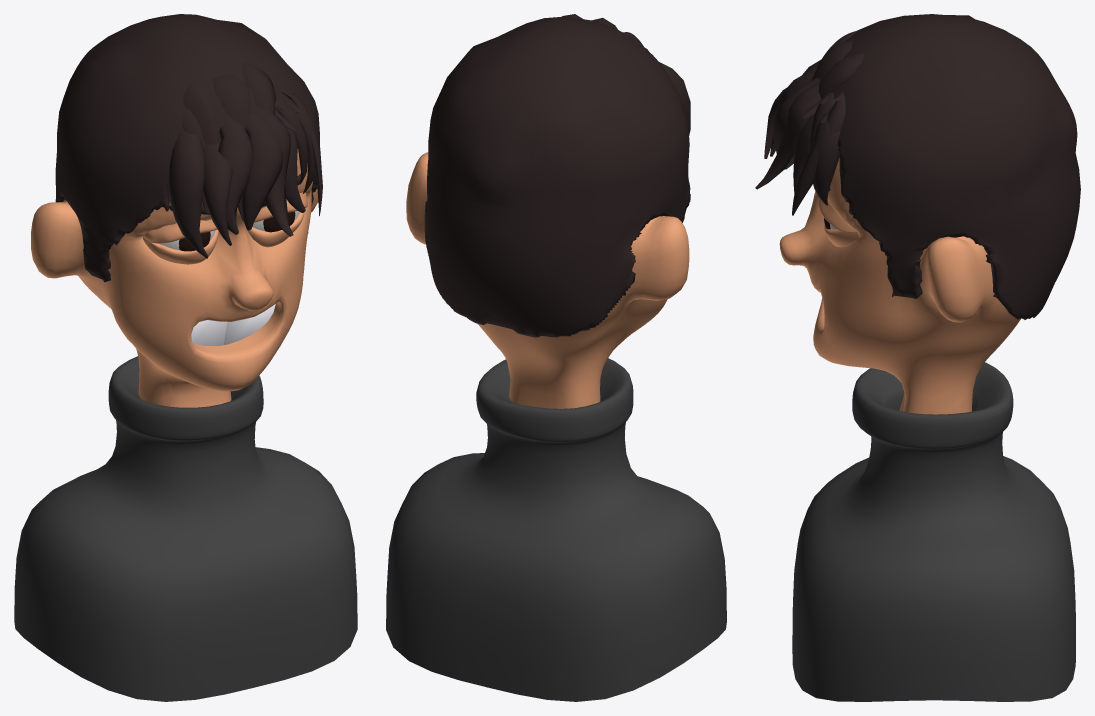
The model's file is marco-avatar.glb.
3 renders of one model, left to right at view 1: azimuth 30°, elevation 25°; view 2: azimuth 150°, elevation 25°; view 3: azimuth 270°, elevation 25°, orthographic. The views are drawn at different scales.
Visible parts, largest first — view 1: shirt, face-low-poly, hair mesh, hair (×2), hair.008, hair.002, hair.010, hair.005, hair.011, hair.004, hair.001, hair.009 (+1 smaller); view 2: shirt, hair mesh, face-low-poly, hair.008; view 3: shirt, hair mesh, face-low-poly, hair (×2), hair.007, hair.004, hair.001, hair.005, hair.002.
Part boxes in pixels (box(x1,y1,x2,y2)): shirt: box(14, 356, 357, 701); face-low-poly: box(31, 149, 318, 407); hair mesh: box(55, 14, 319, 282); hair (×2): box(241, 99, 318, 236); hair.008: box(168, 131, 208, 258); hair.002: box(218, 116, 251, 234); hair.010: box(203, 142, 232, 245); hair.005: box(212, 74, 251, 221); hair.011: box(183, 83, 217, 144); hair.004: box(242, 62, 275, 113); hair.001: box(275, 113, 305, 212); hair.009: box(275, 99, 308, 184); shirt: box(386, 358, 726, 701); hair mesh: box(424, 16, 690, 337); face-low-poly: box(406, 152, 689, 408); hair.008: box(659, 62, 690, 135); shirt: box(792, 362, 1075, 701); hair mesh: box(819, 14, 1080, 319); face-low-poly: box(779, 157, 1020, 414); hair (×2): box(755, 77, 840, 205); hair.007: box(792, 91, 845, 215); hair.004: box(818, 53, 864, 98); hair.001: box(793, 99, 821, 194); hair.005: box(811, 39, 853, 80); hair.002: box(770, 67, 817, 156).
Size of the model in its own units: 2.56 by 5.07 by 2.38.
